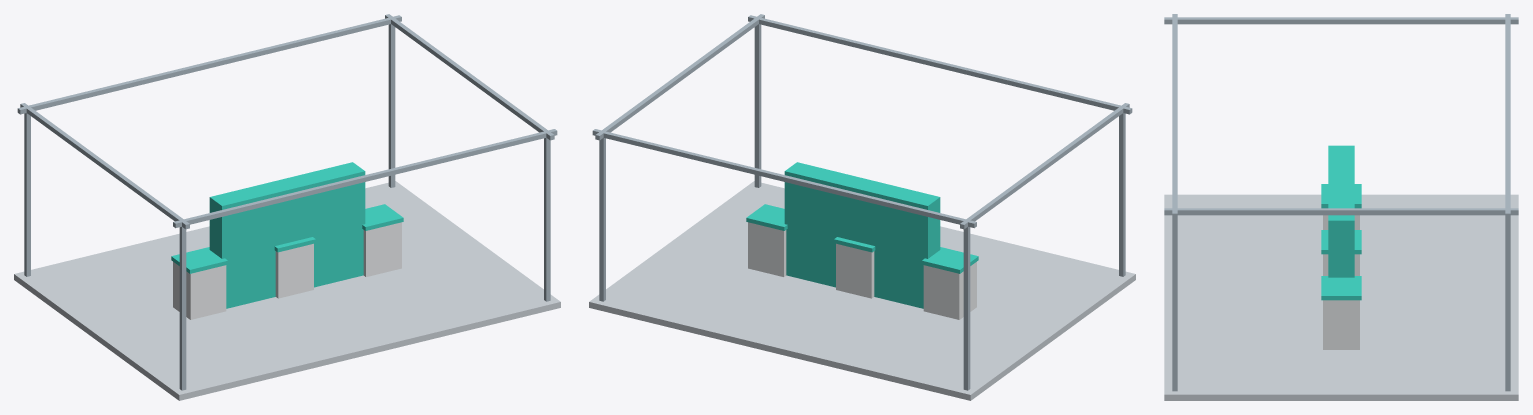
The picture shows the model from 3 angles, left to right: view 1: azimuth 30°, elevation 25°; view 2: azimuth 150°, elevation 25°; view 3: azimuth 270°, elevation 25°; orthographic projection. The views are drawn at different scales.
Parts seen in each view (by area): view 1: Exhibition Booth Concept; view 2: Exhibition Booth Concept; view 3: Exhibition Booth Concept.
Part boxes in pixels (x1,y1,x2,y2): Exhibition Booth Concept: (14,14,560,400); Exhibition Booth Concept: (589,14,1135,400); Exhibition Booth Concept: (1164,14,1518,400).
Size of the model in its own units: 8 by 3.49 by 6.
